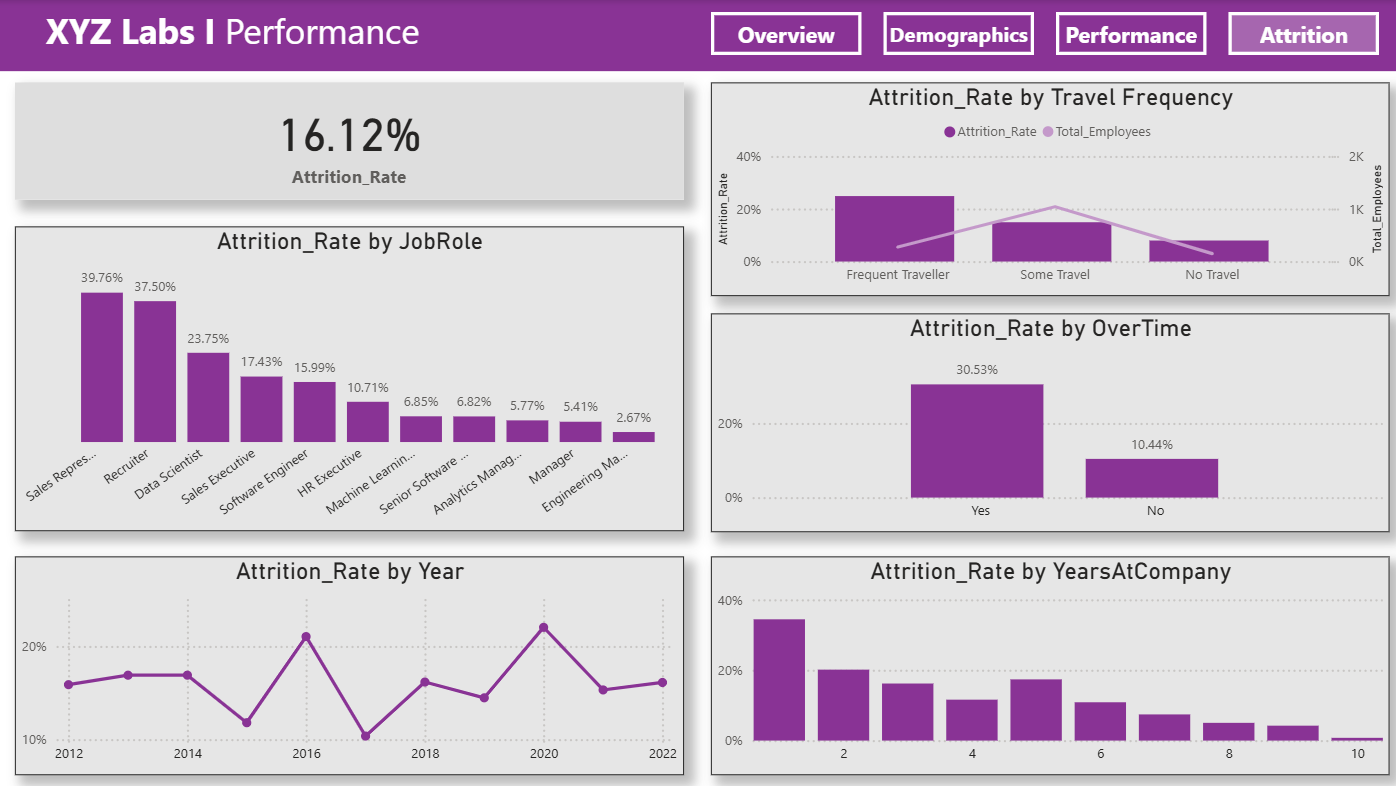

The page's visual inventory and layout, read from the dashboard file:
{"tool":"powerbi","page":{"name":"Attrition","canvas":[1280,720],"ordinal":3},"visuals":[{"type":"shape","box":[0,0,1279.5,65.1],"z":0},{"type":"textbox","box":[13.6,0,398.2,65.1],"z":1000},{"type":"actionButton","box":[808.6,10.6,137.8,39.4],"z":2000},{"type":"actionButton","box":[651.1,10.6,137.8,39.4],"z":3000},{"type":"actionButton","box":[1123.5,10.6,137.8,39.4],"z":4000},{"type":"actionButton","box":[966.1,10.6,137.8,39.4],"z":5000},{"type":"card","fields":{"Values":["All_Measures.Attrition_Rate"]},"box":[13.6,75.7,611.7,107.5],"z":7000},{"type":"lineStackedColumnComboChart","fields":{"Category":["Employee.JobRole"],"Y":["All_Measures.Attrition_Rate"]},"box":[13.6,206.8,611.7,278.6],"z":7001},{"type":"lineChart","fields":{"Y":["All_Measures.Attrition_Rate"],"Category":["Date.Date.Variation.Date Hierarchy.Year"]},"box":[13.6,508.8,611.7,199.9],"z":7002},{"type":"lineStackedColumnComboChart","title":"Attrition_Rate by Travel Frequency","fields":{"Category":["Employee.BusinessTravel"],"Y":["All_Measures.Attrition_Rate"],"Y2":["All_Measures.Total_Employees"]},"box":[651.1,75.7,620.8,195.3],"z":7003},{"type":"clusteredColumnChart","fields":{"Y":["All_Measures.Attrition_Rate"],"Category":["Employee.OverTime"]},"box":[651.1,286.2,620.8,199.9],"z":7004},{"type":"clusteredColumnChart","fields":{"Y":["All_Measures.Attrition_Rate"],"Category":["Employee.YearsAtCompany"]},"box":[651.1,508.8,620.8,199.9],"z":7005}]}

Visuals, with their boxes in screenshot pixels (x1, y1, x2, y2), scaled from the page's 1280x720 canvas onto the 1396x786 screenshot:
shape: (x1=0, y1=0, x2=1395, y2=71)
textbox: (x1=15, y1=0, x2=449, y2=71)
actionButton: (x1=882, y1=12, x2=1032, y2=55)
actionButton: (x1=710, y1=12, x2=860, y2=55)
actionButton: (x1=1225, y1=12, x2=1376, y2=55)
actionButton: (x1=1054, y1=12, x2=1204, y2=55)
card - All_Measures.Attrition_Rate: (x1=15, y1=83, x2=682, y2=200)
lineStackedColumnComboChart - Employee.JobRole x All_Measures.Attrition_Rate: (x1=15, y1=226, x2=682, y2=530)
lineChart - All_Measures.Attrition_Rate x Date.Date.Variation.Date Hierarchy.Year: (x1=15, y1=555, x2=682, y2=774)
"Attrition_Rate by Travel Frequency" lineStackedColumnComboChart: (x1=710, y1=83, x2=1387, y2=296)
clusteredColumnChart - All_Measures.Attrition_Rate x Employee.OverTime: (x1=710, y1=312, x2=1387, y2=531)
clusteredColumnChart - All_Measures.Attrition_Rate x Employee.YearsAtCompany: (x1=710, y1=555, x2=1387, y2=774)
